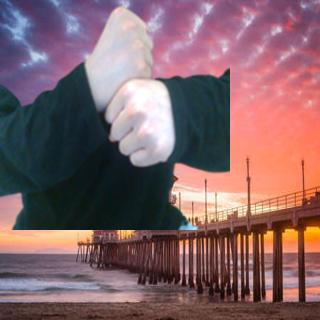CAREFUL: (85, 2, 175, 171)
